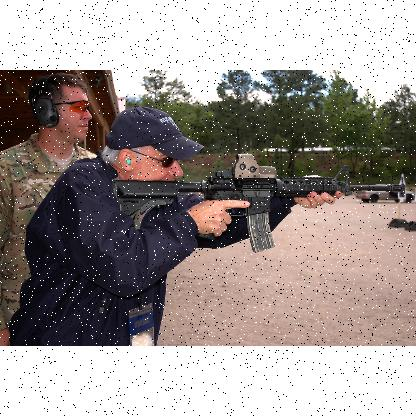gun: (111, 155, 402, 251)
